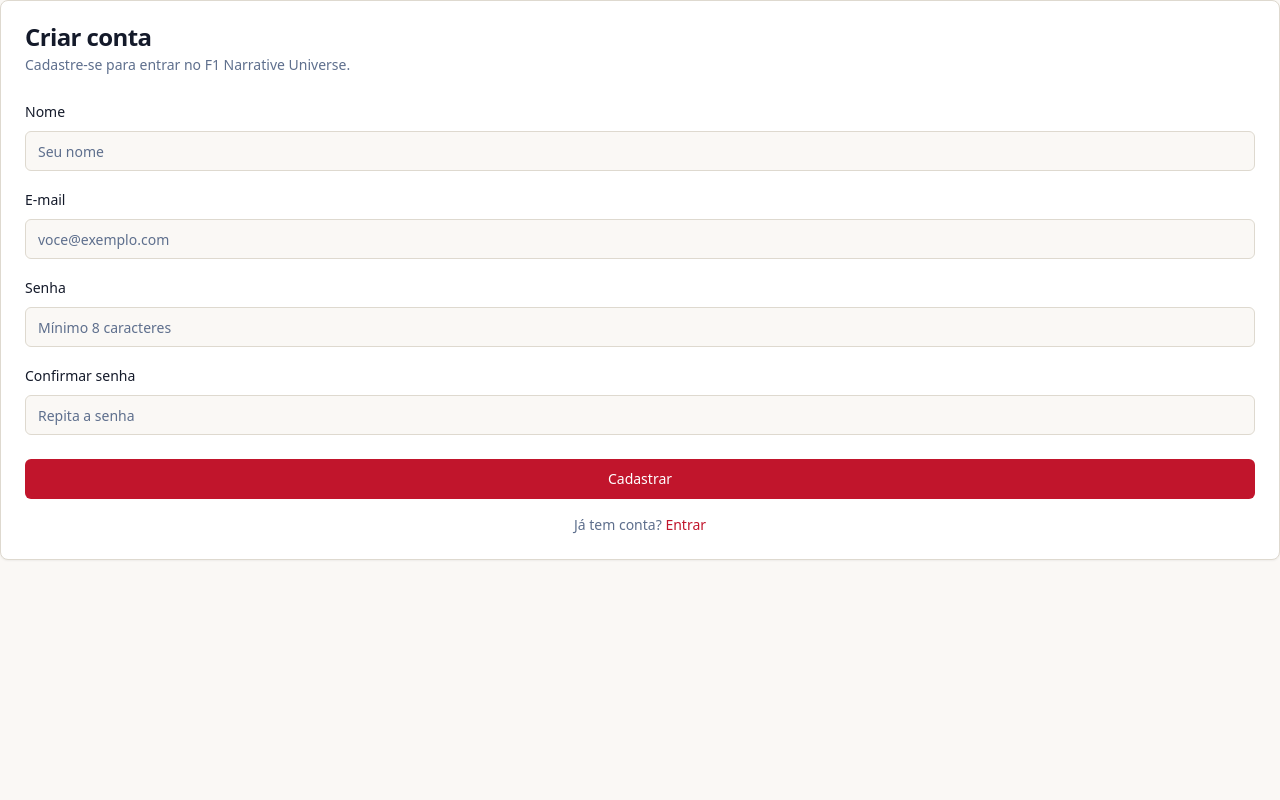
RegisterForm › 3 - email malformado: inválido, sessão não submetida
Type "João da Silva" into the field labelled "Nome" at [640, 151], box top-left (25, 131), bottom-right (1255, 171)
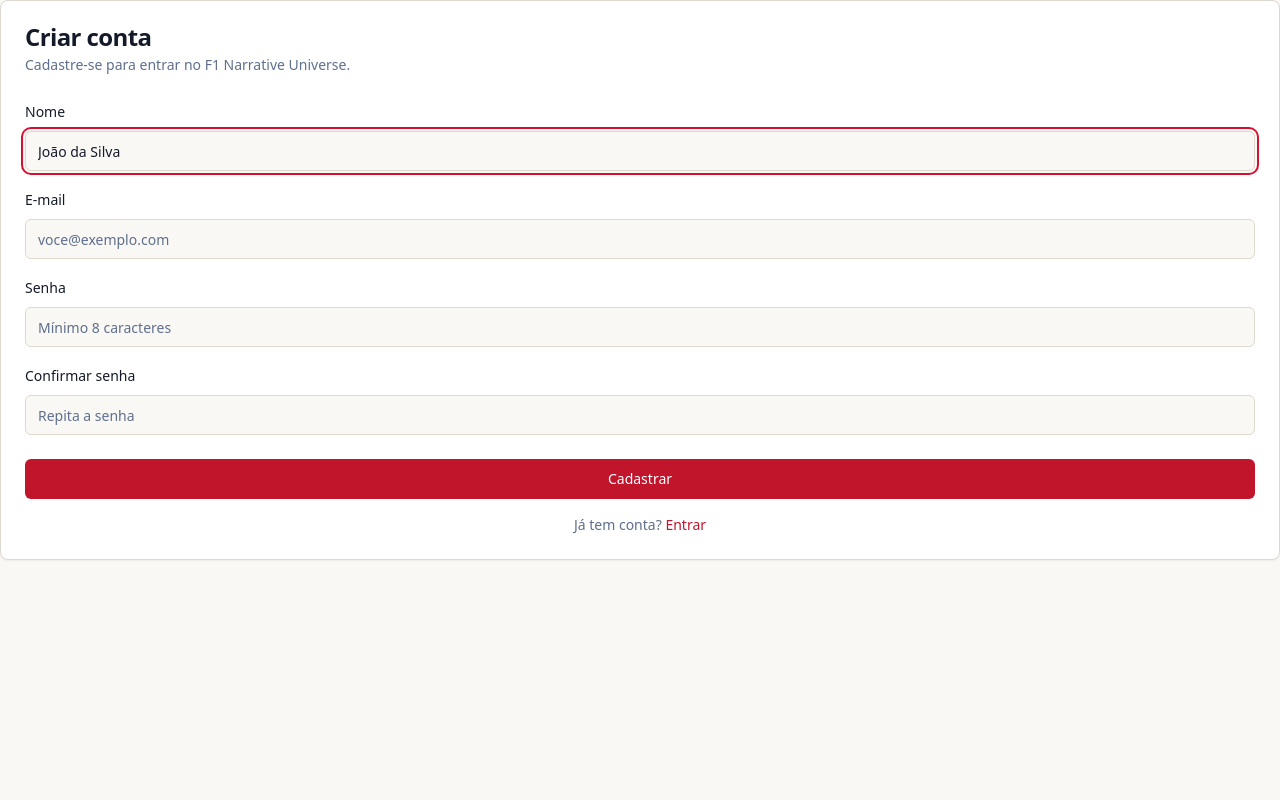
Type "joao@invalido" into the field labelled "E-mail" at [640, 239], box top-left (25, 219), bottom-right (1255, 259)
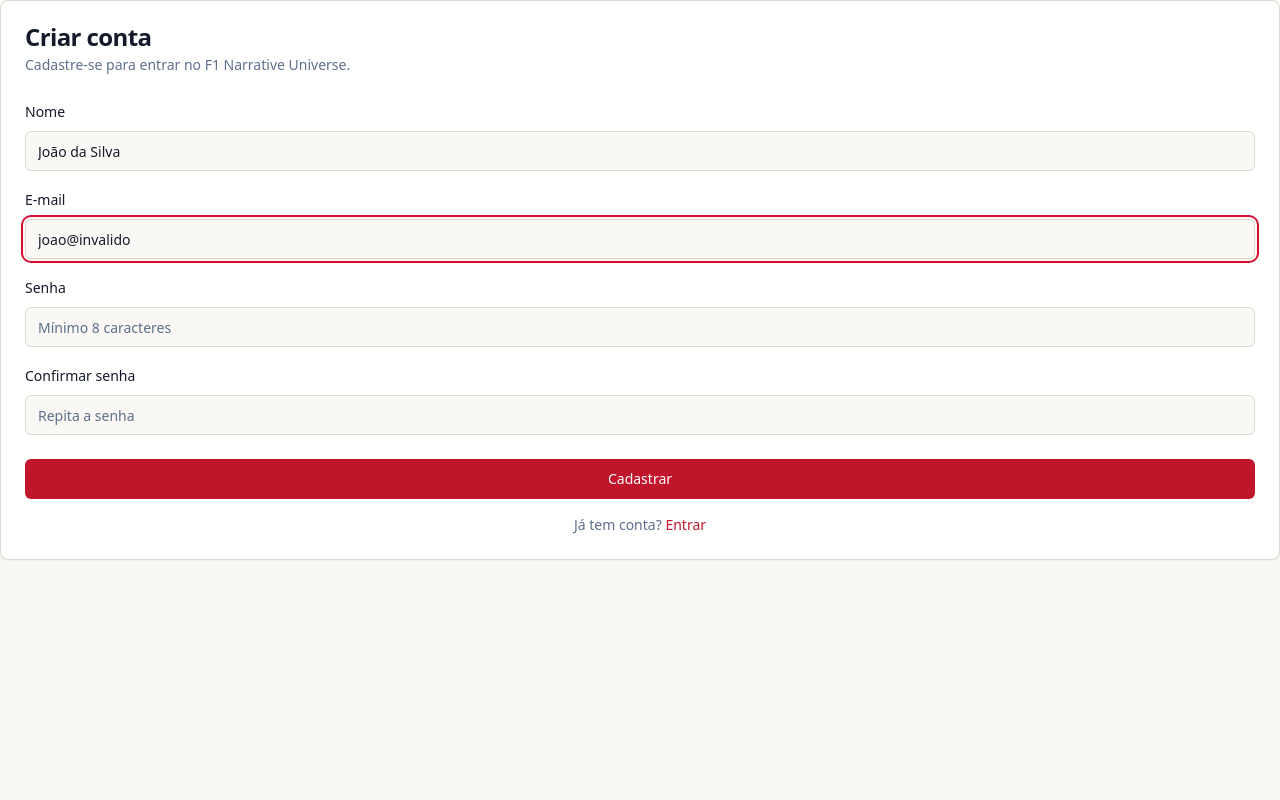
Type "senha-segura-123" into the password field labelled "Senha" at [640, 327], box top-left (25, 307), bottom-right (1255, 347)
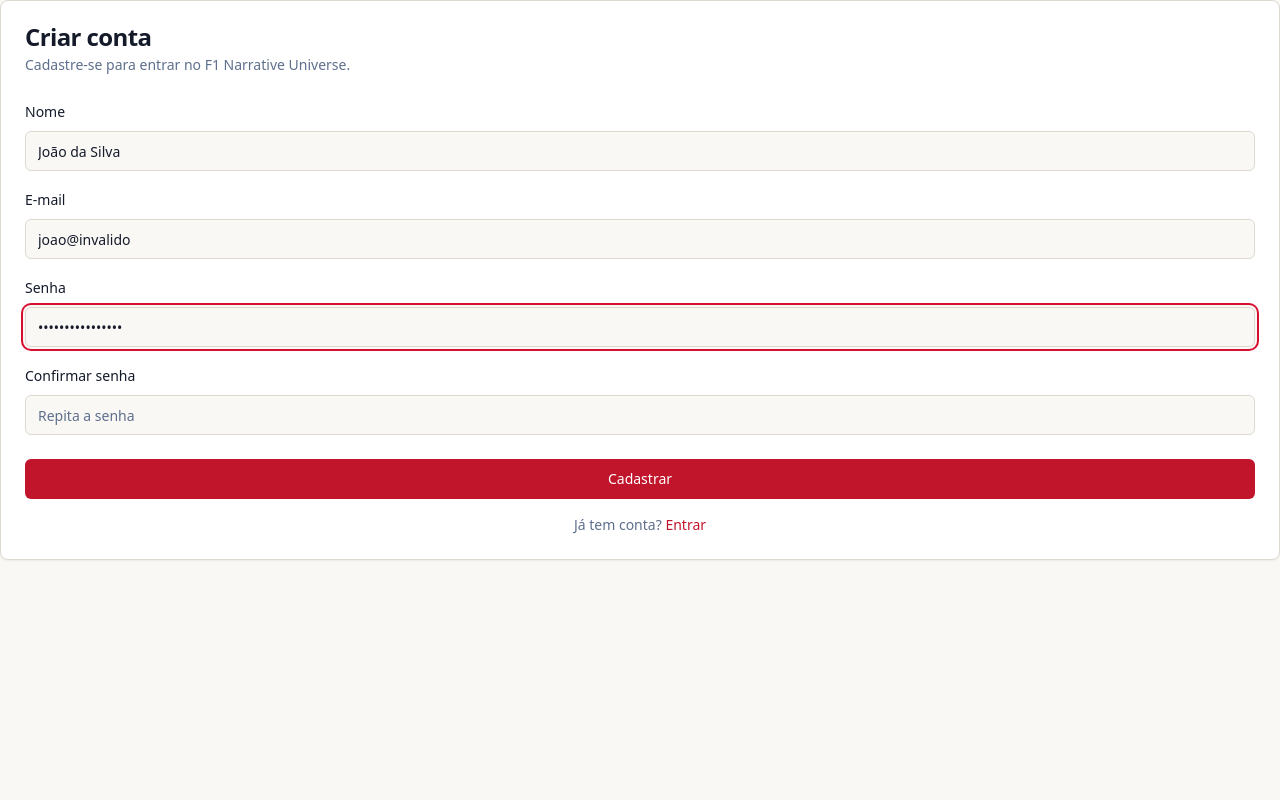
Type "senha-segura-123" into the password field labelled "Confirmar senha" at [640, 415], box top-left (25, 395), bottom-right (1255, 435)
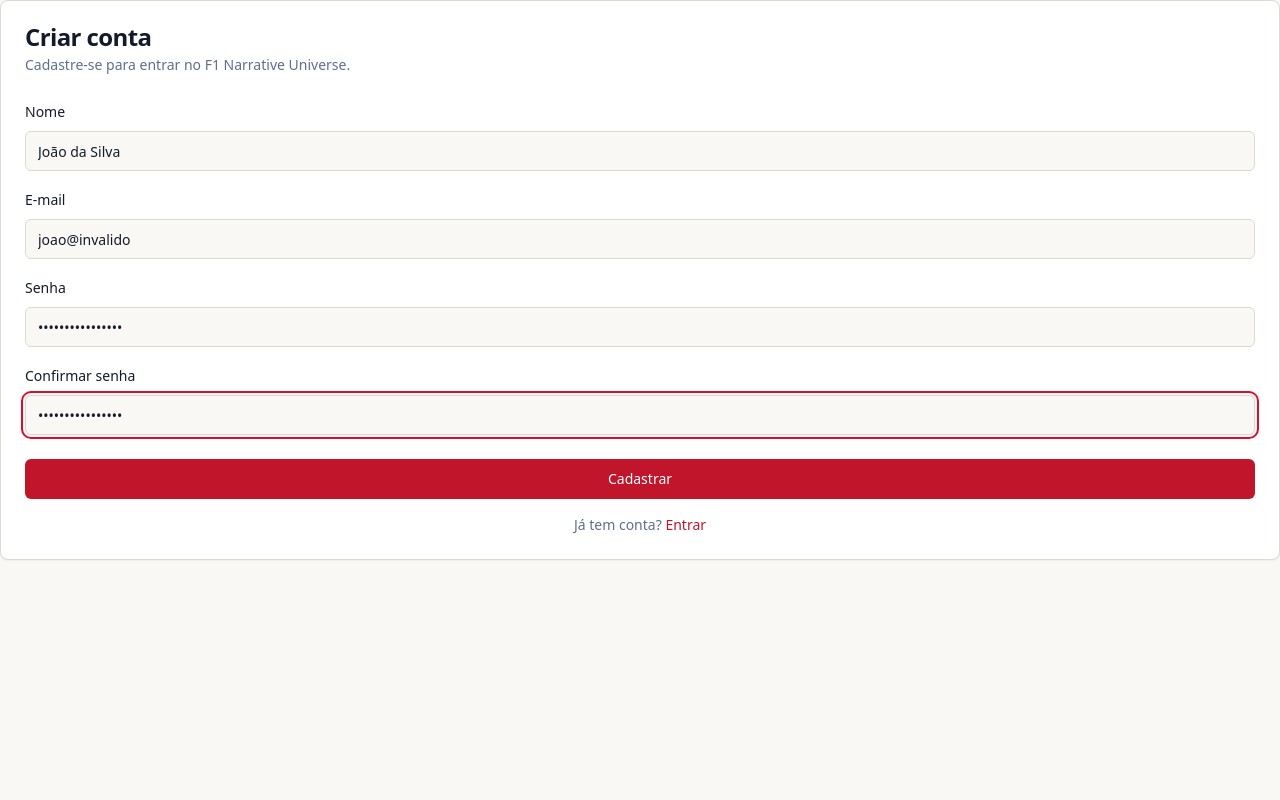
Click the button "Cadastrar" at [640, 479], box top-left (25, 459), bottom-right (1255, 499)
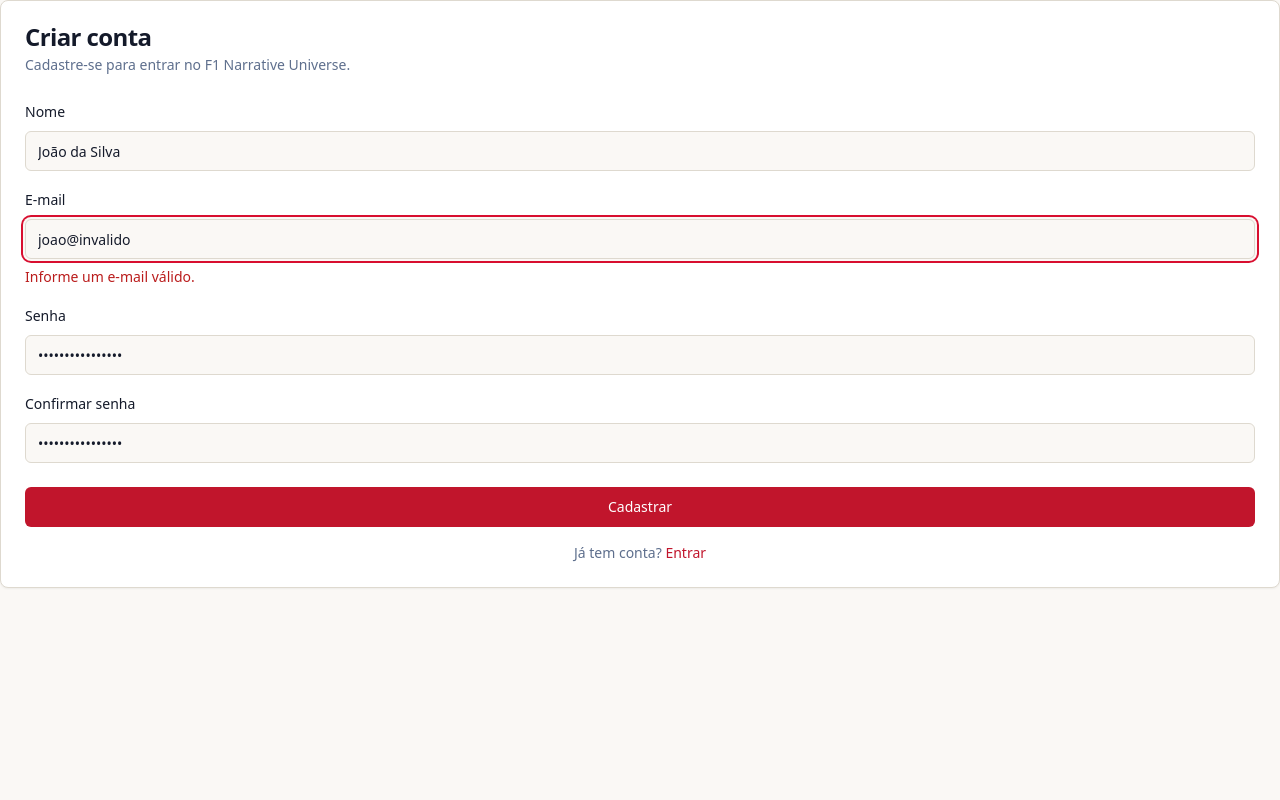
Check: the text "Informe um e-mail válido." is shown, box top-left (25, 267), bottom-right (195, 286)
